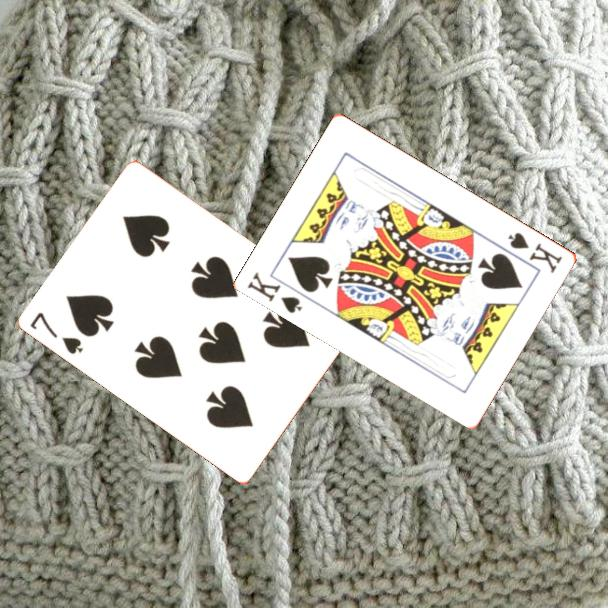s07: (27, 309, 86, 357)
s13: (244, 268, 306, 316), (504, 229, 566, 276)
